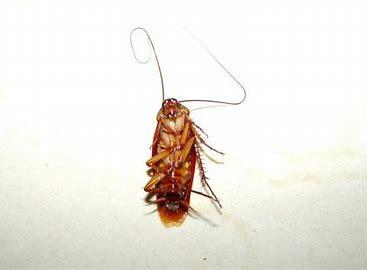cockroach: (126, 17, 253, 240)
